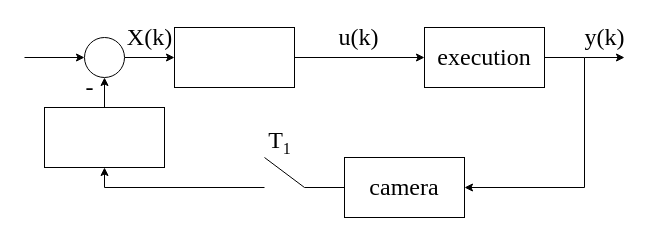
Some shapes in this 652 by 235 pixel diagram are drawn without their labels. Each missing label, with the centre of its shape:
data fusion: the point at 104,137
f 1 (x(k)): the point at 234,57
